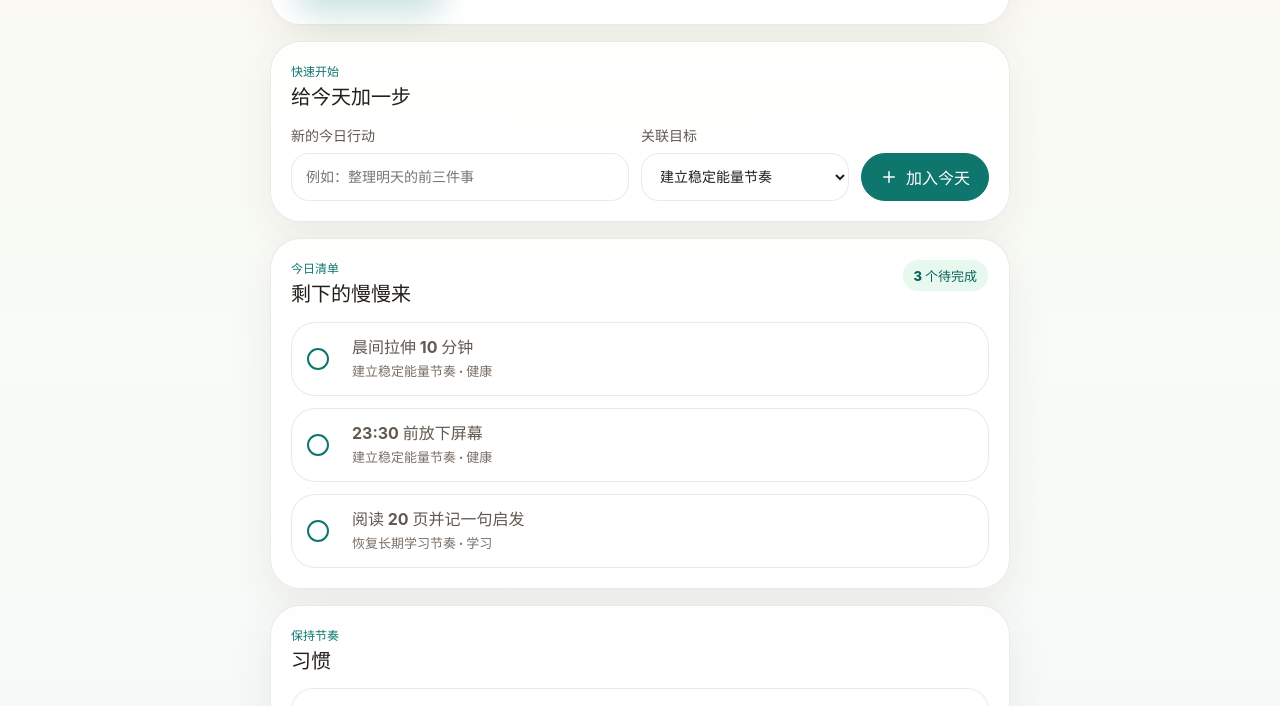
Test: Growth OS app › checks off a daily action from the Today view
(page scrolled)
Click the checkbox labelled "晨间拉伸 10 分钟 建立稳定能量节奏 · 健康" at (413, 347), box x1=291 y1=322 x2=989 y2=396
(page scrolled)
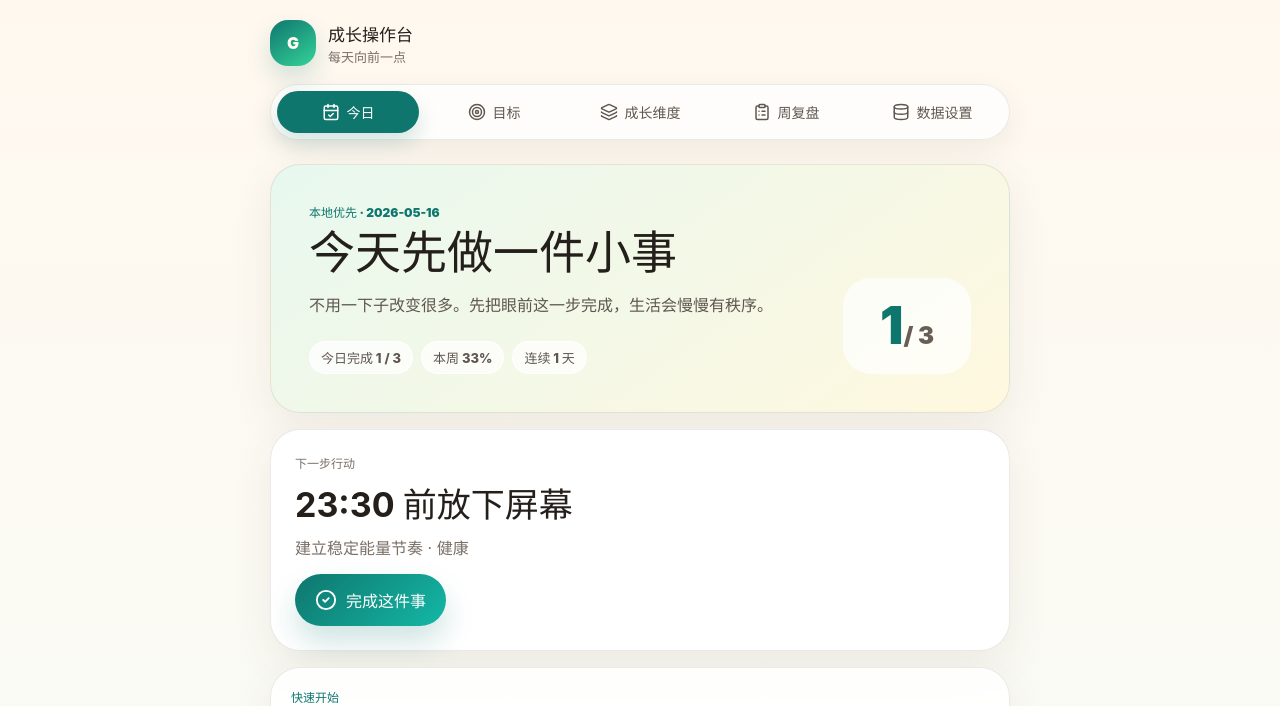
Result: the text "今日完成 1 / 3" is shown at x1=309 y1=341 x2=413 y2=374
